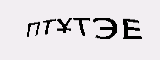К: (53, 23, 73, 44)
Л: (72, 29, 86, 48)
С: (85, 30, 99, 50)
Ш: (98, 29, 128, 51), (28, 20, 53, 39)
